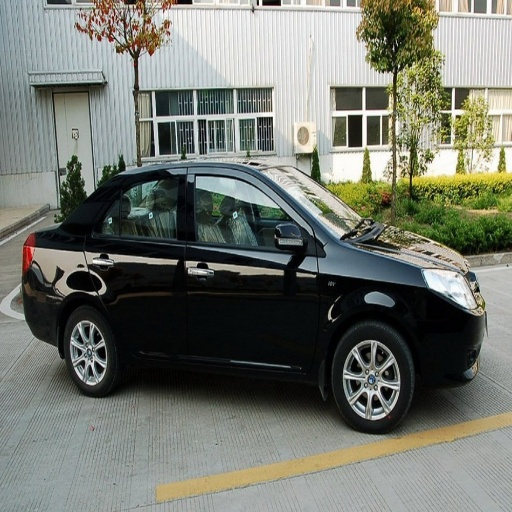back_right_door: (86, 165, 188, 355)
front_bumper: (419, 302, 485, 378)
front_right_door: (187, 166, 318, 370)
front_right_light: (427, 269, 480, 310)
